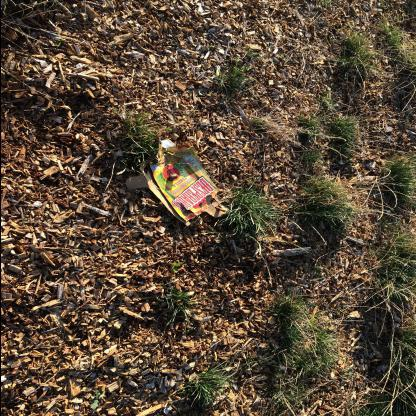karton: (126, 139, 228, 228)
